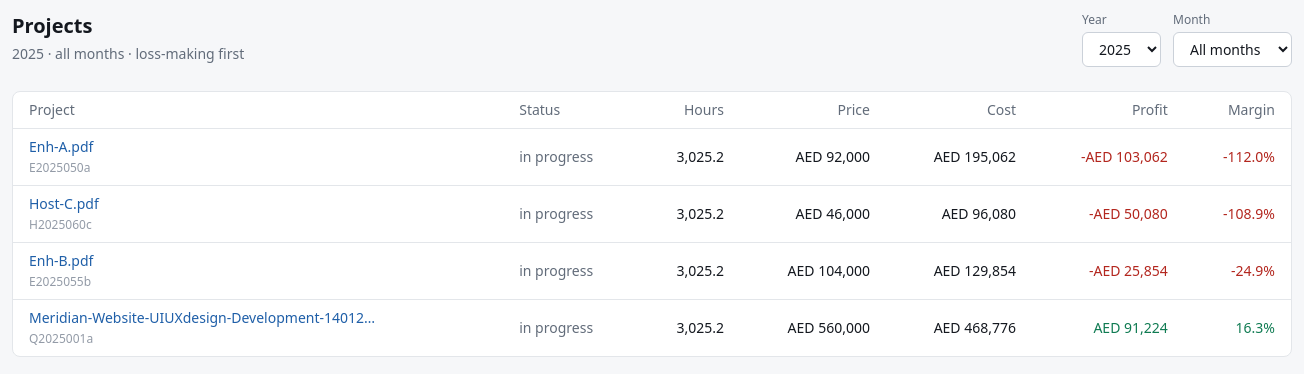
the period filter › refetches when a month is chosen
This screenshot has width=1304, height=374.
Check: the text "E2025050a" is shown, box [29,159,90,176]
Select "March" in the dropdown labelled "Month" at (1232, 50), box [1173,32,1292,67]
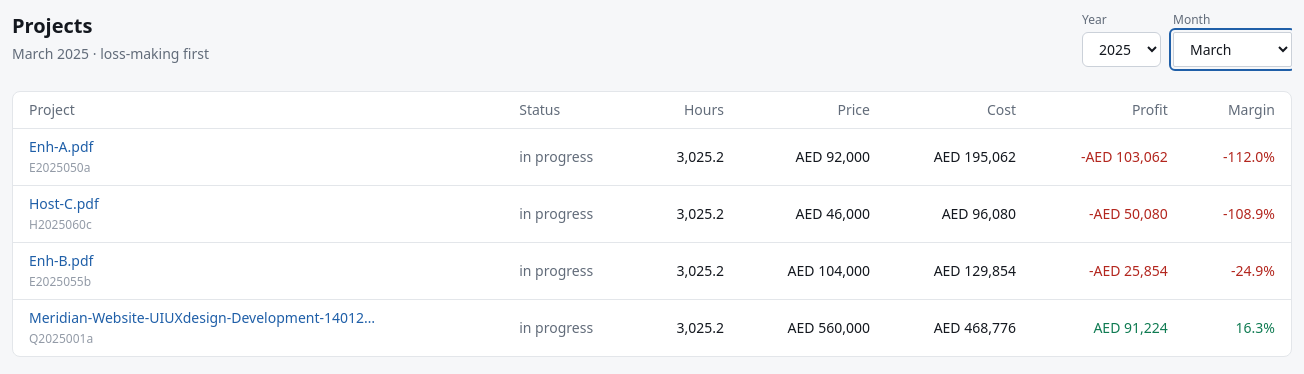
Check: the text "March 2025 · loss-making first" is shown, box [12,44,209,64]
